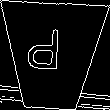P_S: (33, 30, 71, 82)
